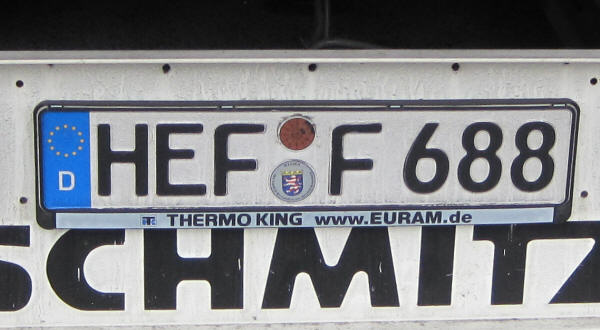license_plate: (36, 105, 573, 211)
